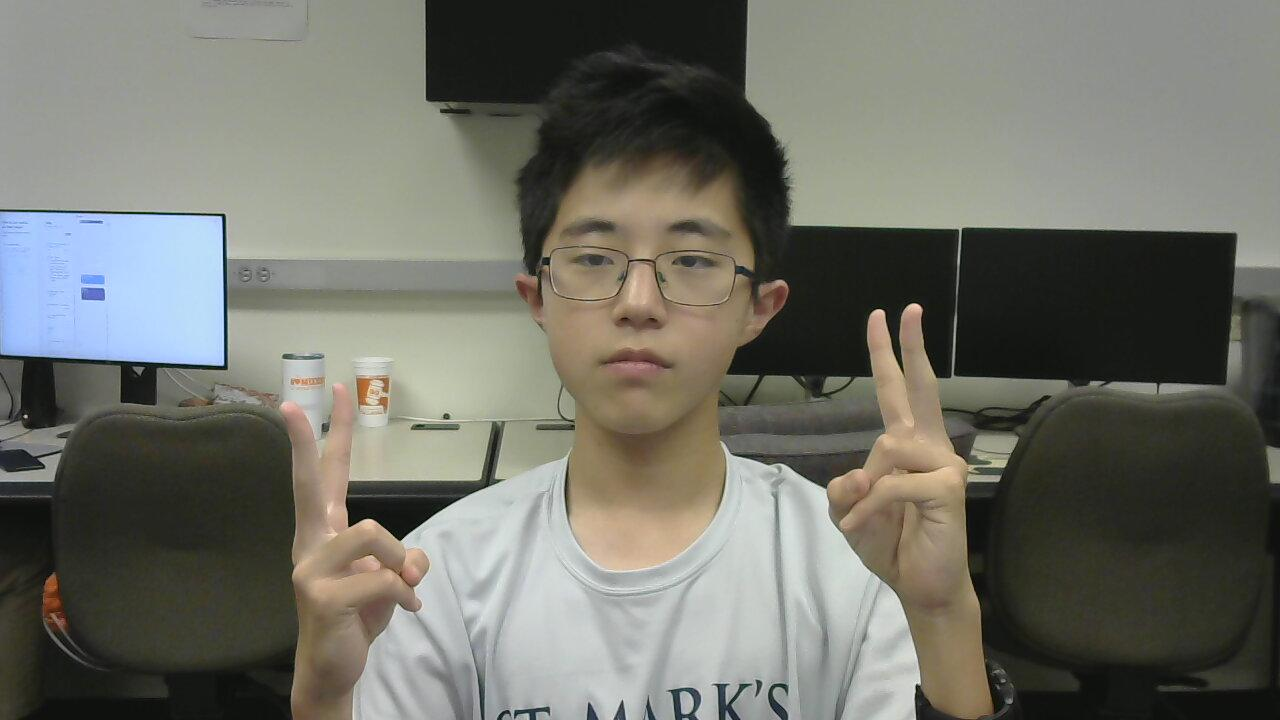peace: (238, 377, 439, 671), (811, 287, 982, 628)
